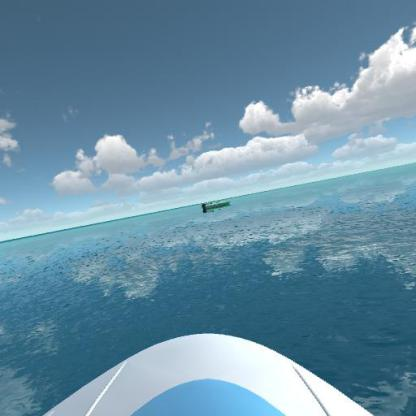usv0: (199, 198, 233, 212)
